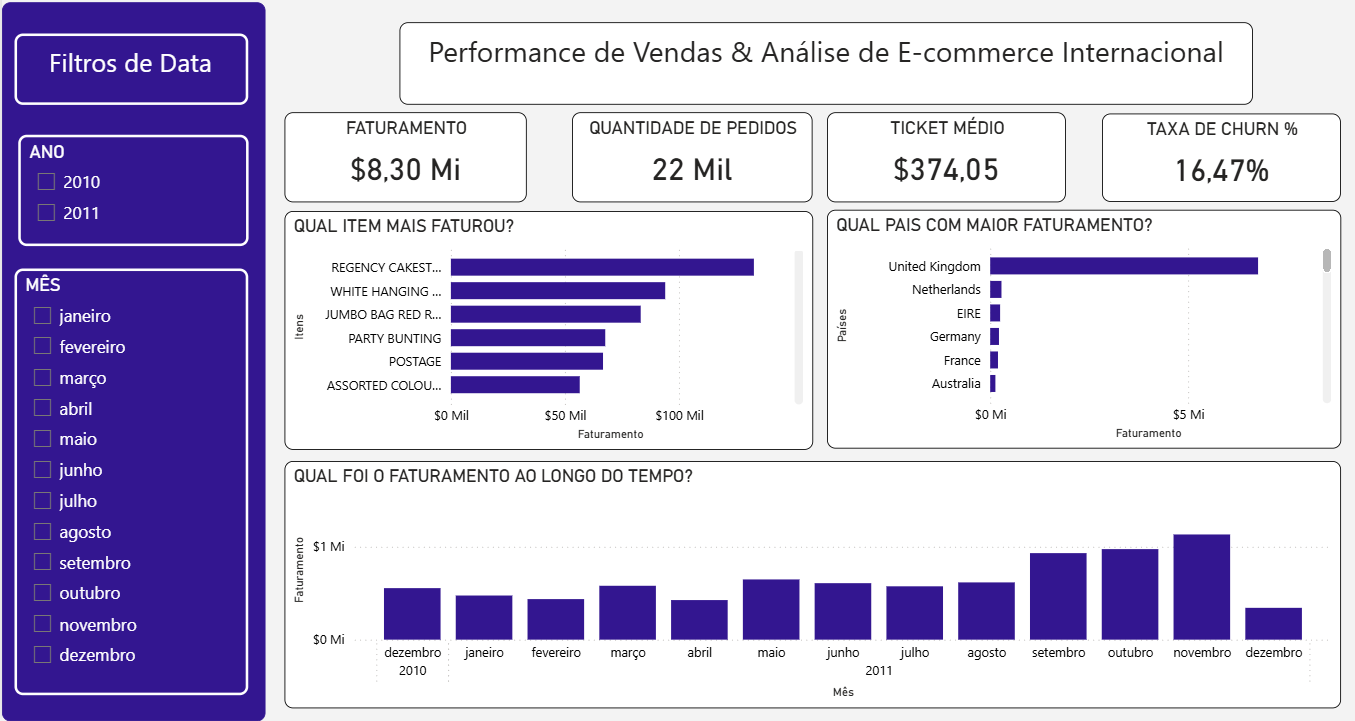

Layout of this report page (visuals, bound fields, positions):
{"tool":"powerbi","page":{"name":"Página 1","canvas":[1280,720],"ordinal":0},"visuals":[{"type":"card","title":"FATURAMENTO","fields":{"Values":["Medidas.Faturamento"]},"box":[265.5,146.9,227.8,84.9],"z":0},{"type":"card","title":"QUANTIDADE DE PEDIDOS","fields":{"Values":["Medidas.Qtd Pedidos"]},"box":[536.4,146.9,226.4,84.9],"z":1000},{"type":"card","title":"TICKET MÉDIO","fields":{"Values":["Medidas.Ticket Médio"]},"box":[776.3,146.9,225.1,84.9],"z":2000},{"type":"barChart","title":"QUAL PAIS COM MAIOR FATURAMENTO?","fields":{"Category":["analytics dim_clientes.country"],"Y":["Medidas.Faturamento"]},"box":[776.3,238.5,483.8,225.1],"z":3000},{"type":"clusteredColumnChart","title":"QUAL FOI O FATURAMENTO AO LONGO DO TEMPO?","fields":{"Y":["Medidas.Faturamento"],"Category":["Calendario.Date.Variation.Hierarquia de datas.Ano","Calendario.Date.Variation.Hierarquia de datas.Mês"]},"box":[265.5,475.7,994.6,233.1],"z":4000},{"type":"clusteredBarChart","title":"QUAL ITEM MAIS FATUROU?","fields":{"Category":["analytics dim_produtos.description"],"Y":["Medidas.Faturamento"]},"box":[265.5,239.9,497.3,225.1],"z":5000},{"type":"textbox","box":[374.1,62.4,803.5,77.6],"z":6000},{"type":"card","title":"TAXA DE CHURN %","fields":{"Values":["Medidas.Taxa de Churn %"]},"box":[1035,148.2,225.1,83.6],"z":7000},{"type":"textbox","box":[0,43.1,248,676.5],"z":8000},{"type":"slicer","title":"MÊS","fields":{"Values":["Calendario.Mês Nome"]},"box":[12.1,293.8,219.7,401.6],"z":9000},{"type":"textbox","box":[12.1,72.8,219.7,67.4],"z":10000},{"type":"slicer","title":"ANO","fields":{"Values":["Calendario.Ano"]},"box":[14.8,168.5,217,105.1],"z":11000}]}

Visuals, with their boxes in screenshot pixels (x1, y1, x2, y2):
"FATURAMENTO" card: pyautogui.locateOnScreen(281, 110, 523, 200)
"QUANTIDADE DE PEDIDOS" card: pyautogui.locateOnScreen(568, 110, 808, 200)
"TICKET MÉDIO" card: pyautogui.locateOnScreen(823, 110, 1061, 200)
"QUAL PAIS COM MAIOR FATURAMENTO?" barChart: pyautogui.locateOnScreen(823, 207, 1335, 445)
"QUAL FOI O FATURAMENTO AO LONGO DO TEMPO?" clusteredColumnChart: pyautogui.locateOnScreen(281, 458, 1335, 705)
"QUAL ITEM MAIS FATUROU?" clusteredBarChart: pyautogui.locateOnScreen(281, 208, 808, 447)
textbox: pyautogui.locateOnScreen(396, 20, 1248, 102)
"TAXA DE CHURN %" card: pyautogui.locateOnScreen(1097, 111, 1335, 200)
textbox: pyautogui.locateOnScreen(0, 0, 263, 717)
"MÊS" slicer: pyautogui.locateOnScreen(13, 265, 246, 691)
textbox: pyautogui.locateOnScreen(13, 31, 246, 103)
"ANO" slicer: pyautogui.locateOnScreen(16, 133, 246, 244)
